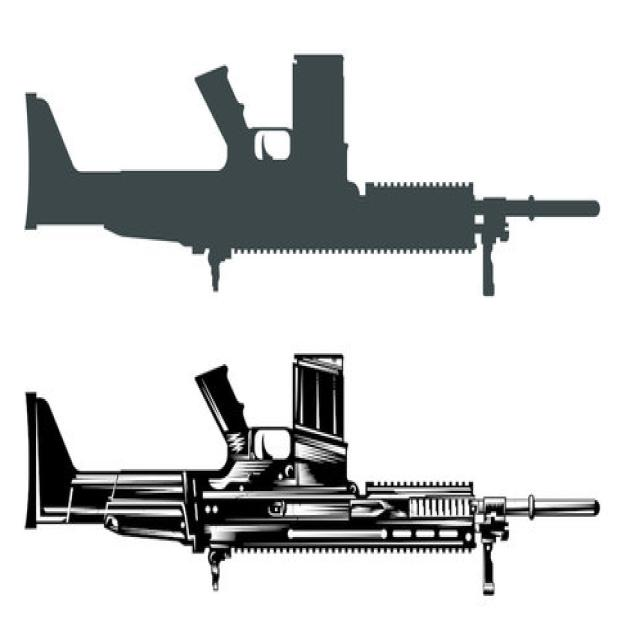Gun: (3, 317, 610, 624), (9, 27, 617, 310)
